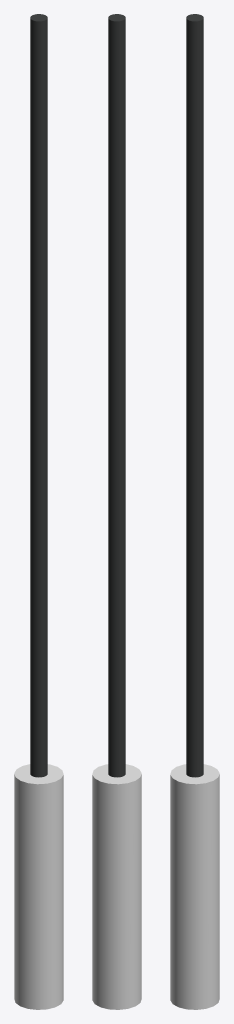
Rendered from Lamp_hall.fbx.
3 views of the same model, side by side, from view 1: azimuth 30°, elevation 25°; view 2: azimuth 150°, elevation 25°; view 3: azimuth 330°, elevation 25° (orthographic).
Visible parts, largest first — view 1: SM_Lamp_hall; view 2: SM_Lamp_hall; view 3: SM_Lamp_hall.
Part boxes in pixels (x1,y1,x2,y2): SM_Lamp_hall: [14, 14, 63, 1009]; SM_Lamp_hall: [92, 14, 141, 1009]; SM_Lamp_hall: [170, 14, 219, 1009].
Bounding box in the file's own units: 9.81 × 218 × 9.81.
Materials: 2 (1 with a texture image).
